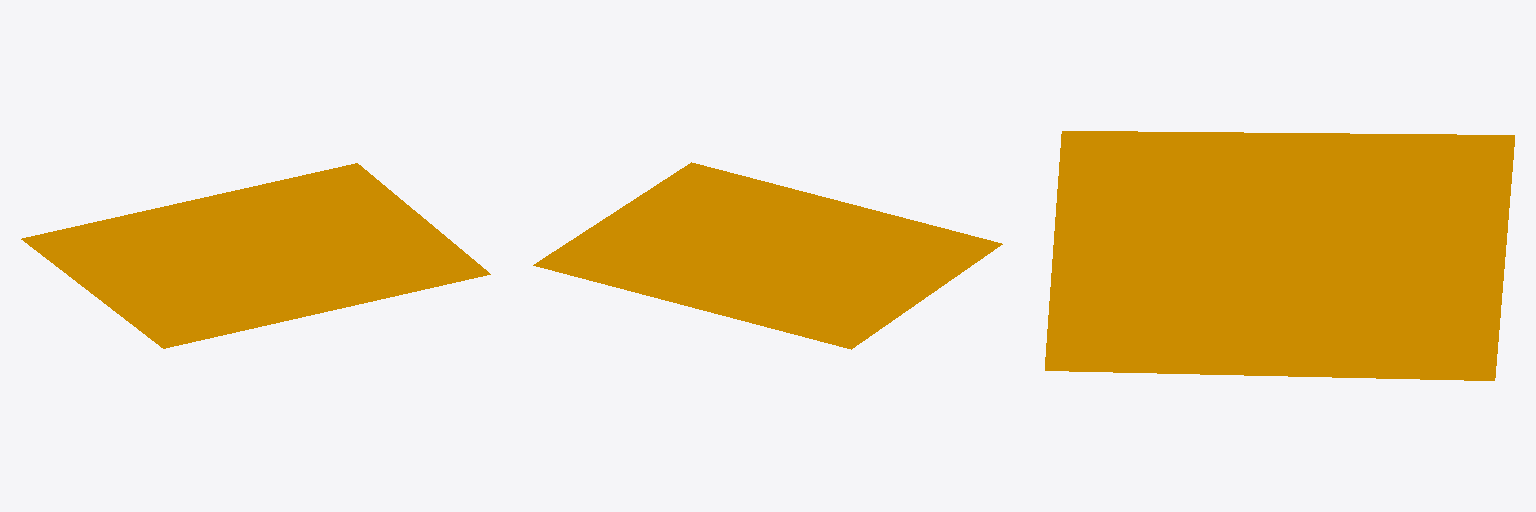
The robot description file, URDF, robot "scene0420_01_floor":
<robot name="scene0420_01_floor">
	<link name="_name">
		<visual>
			<origin xyz="0 0 0" rpy="0 0 0" />
			<geometry>
				<mesh filename="scene0420_01_floor.obj" />
			</geometry>
		</visual>
		<collision>
			<origin rpy="0 0 0" xyz="0 0 0" />
			<geometry>
				<mesh filename="scene0420_01_floor_vhacd.obj" />
			</geometry>
		</collision>
		<inertial>
			<origin rpy="0 0 0" xyz="0 0 0" />
			<mass value="100" />
			<inertia ixx="0.001" ixy="0.0" ixz="0.0" iyy="0.001" iyz="0.0" izz="0.001" />
		</inertial>
	</link>
</robot>

--- What the picture shows (computed from the rendered views, not written in the file) ---
The picture shows the robot from 3 angles, left to right: view 1: azimuth 30°, elevation 25°; view 2: azimuth 150°, elevation 25°; view 3: azimuth 270°, elevation 25°; orthographic projection.
Robot: scene0420_01_floor — 1 links, 0 joints (none); root link _name; default pose: every joint at zero.
Links seen in each view (by area): view 1: _name; view 2: _name; view 3: _name.
Boxes of the visible links, x1,y1,x2,y2 form: _name: [21, 163, 490, 348]; _name: [533, 162, 1002, 349]; _name: [1045, 131, 1514, 380].
Bounding box of the posed robot: 6.95 × 5.53 × 0 m (x, y, z).
1 mesh visuals loaded from 1 distinct referenced files (1 OBJ).
